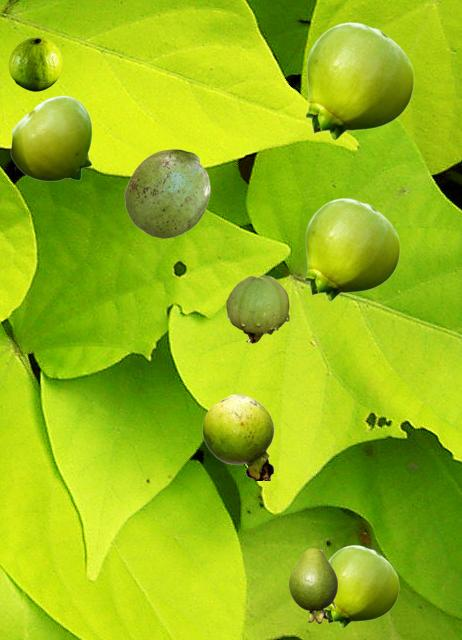guava: (305, 22, 413, 139), (304, 198, 399, 300), (124, 149, 209, 237), (10, 95, 91, 180), (202, 394, 273, 479), (325, 545, 398, 627), (226, 275, 288, 342), (289, 548, 336, 622), (8, 37, 61, 90)
